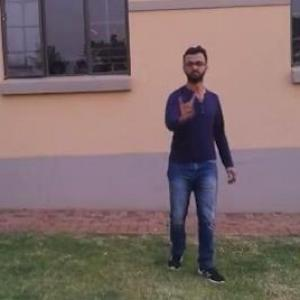takeoff-hand: (172, 84, 205, 120)
